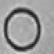no answer: (4, 7, 42, 51)
